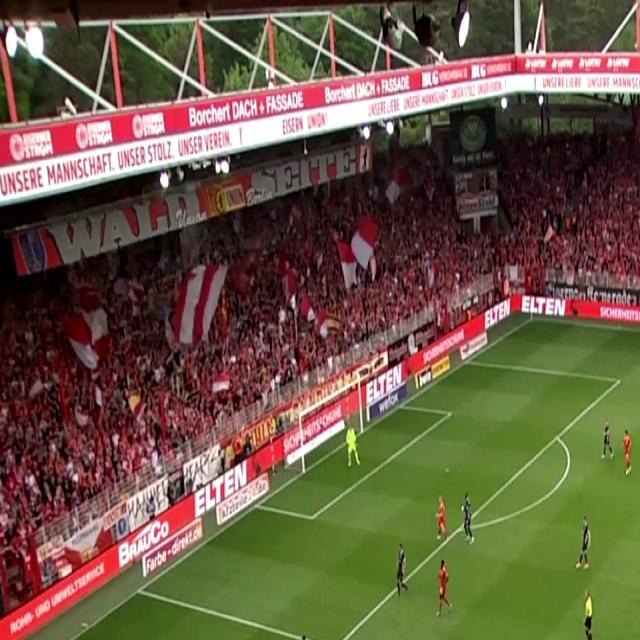goalkeeper: (343, 419, 365, 472)
referee: (575, 586, 598, 640)
soccer-player: (430, 557, 455, 621), (459, 492, 482, 552), (574, 511, 596, 573), (615, 422, 638, 479), (393, 541, 414, 600), (431, 491, 451, 549), (594, 418, 614, 464), (293, 633, 324, 640)
